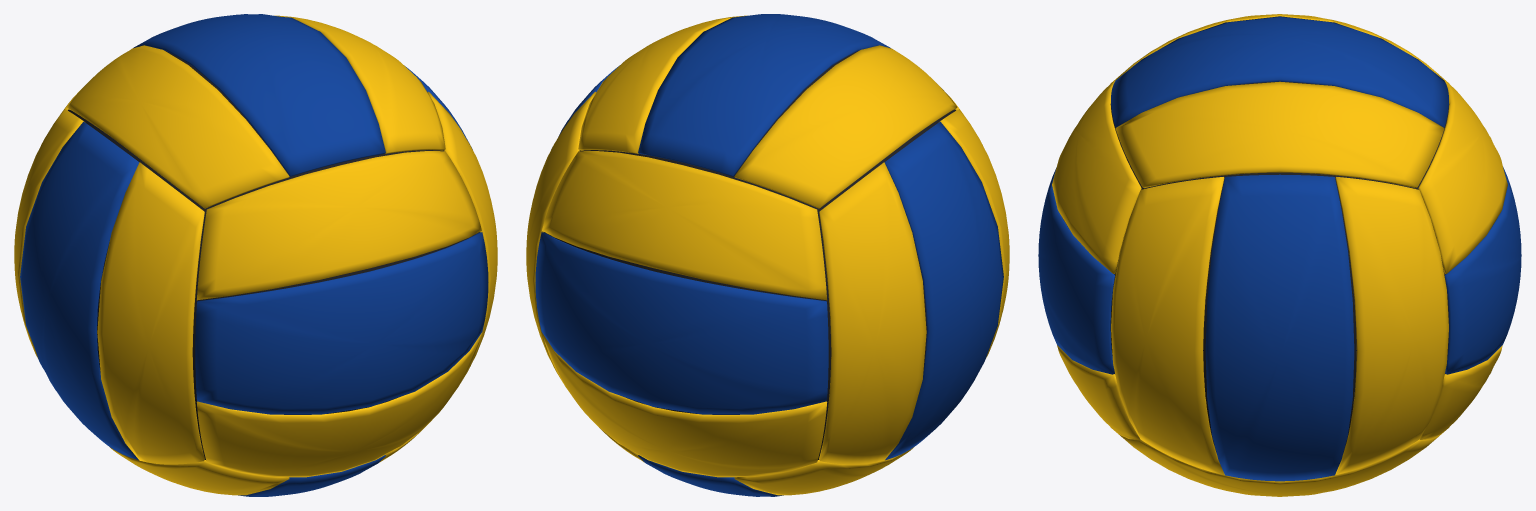
The picture shows the model from 3 angles, left to right: view 1: azimuth 30°, elevation 25°; view 2: azimuth 150°, elevation 25°; view 3: azimuth 270°, elevation 25°; orthographic projection.
Parts seen in each view (by area): view 1: MESH_WaterPoloBall; view 2: MESH_WaterPoloBall; view 3: MESH_WaterPoloBall.
Part boxes in pixels (x1=…): MESH_WaterPoloBall: x1=14, y1=14, x2=497, y2=496; MESH_WaterPoloBall: x1=526, y1=14, x2=1009, y2=496; MESH_WaterPoloBall: x1=1038, y1=14, x2=1521, y2=496.
Size of the model in its own units: 0.2212 by 0.2212 by 0.2212.
